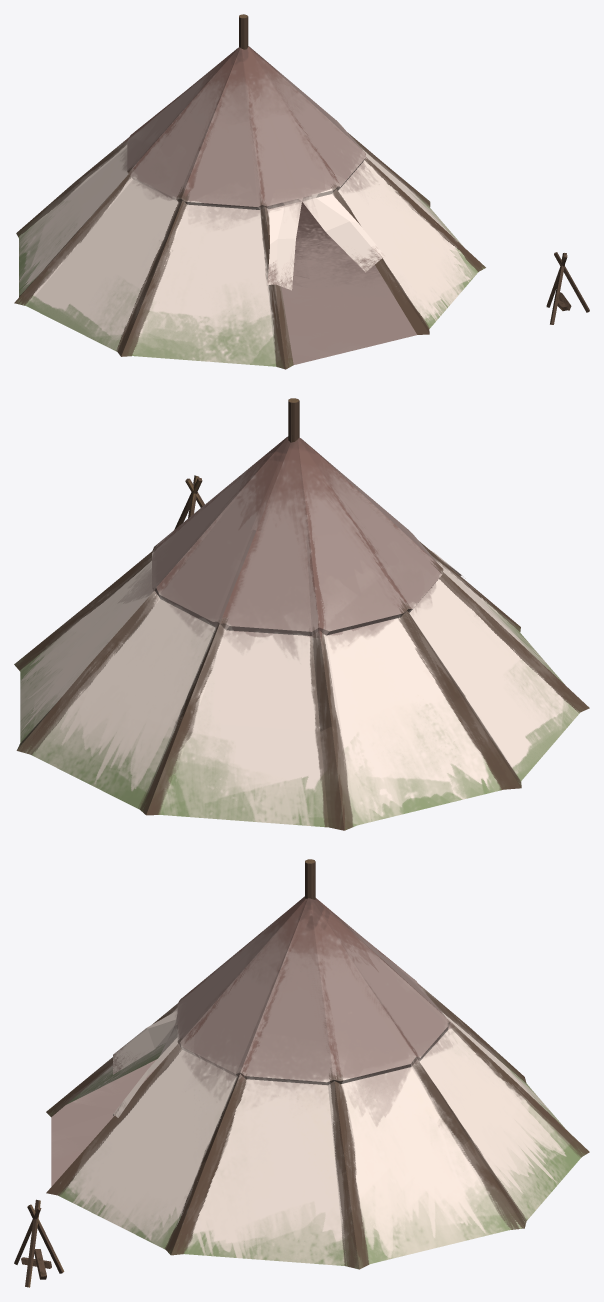
Rendered from Tent.obj.
The picture shows the model from 3 angles, top to bottom: view 1: azimuth 30°, elevation 25°; view 2: azimuth 150°, elevation 25°; view 3: azimuth 270°, elevation 25°; orthographic projection. The views are drawn at different scales.
Parts seen in each view (by area): view 1: Tent, Sticks; view 2: Tent, Sticks; view 3: Tent, Sticks.
Part boxes in pixels (bbox=[...]): Tent: bbox=[14, 46, 485, 369]; Sticks: bbox=[546, 252, 589, 324]; Tent: bbox=[14, 436, 589, 830]; Sticks: bbox=[174, 475, 204, 529]; Tent: bbox=[46, 896, 589, 1269]; Sticks: bbox=[14, 1199, 64, 1287].
Size of the model in its own units: 2.09 by 1.21 by 2.09.
2 materials, 2 textured.
